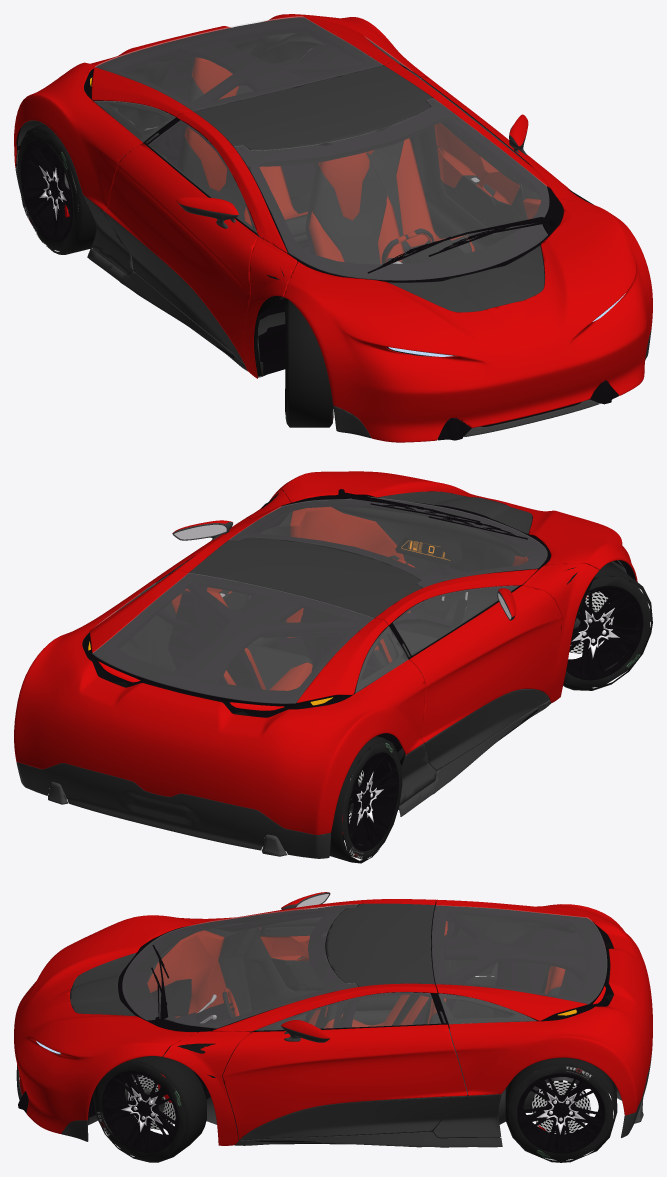
Rendered from aubade-lite.glb.
The picture shows the model from 3 angles, top to bottom: view 1: azimuth 30°, elevation 25°; view 2: azimuth 150°, elevation 25°; view 3: azimuth 270°, elevation 25°; orthographic projection. The views are drawn at different scales.
Parts seen in each view (by area): view 1: BodyHood, BodyWindshield, BodyRearwindow, BodyDoorRColor1, BodyRearPanelsColor1, BodyRoofPanel, BodyWindshieldGasket, InteriorSeatsColor1, InteriorSeatsColor2, BodyPillars, Tyre (×2), InteriorPillar (+20 smaller); view 2: BodyRearPanelsColor1, BodyRearwindow, BodyWindshield, BodyPanelsColor2, BodyDoorRColor1, BodyRoofPanel, BodyHood, InteriorRearHatch, BodyPillars, InteriorPillar, InteriorDashMid, BodyWindshieldGasket (+21 smaller); view 3: BodyRearPanelsColor1, BodyWindshield, BodyDoorLColor1, BodyHood, BodyRearwindow, Tyre (×2), BodyRoofPanel, BodyPillars, BodyWindshieldGasket, BodyDoorLColor2, BodyPanelsColor2, InteriorRearHatch (+24 smaller).
Part boxes in pixels (x1,y1,x2,y2): BodyHood: (283,198,652,442); BodyWindshield: (234,98,549,280); BodyRearwindow: (95,16,382,110); BodyDoorRColor1: (104,143,257,362); BodyRearPanelsColor1: (14,14,428,210); BodyRoofPanel: (193,65,432,150); BodyWindshieldGasket: (234,99,563,282); InteriorSeatsColor1: (185,57,475,264); InteriorSeatsColor2: (180,77,471,264); BodyPillars: (176,61,598,378); Tyre (×2): (17,124,333,427); InteriorPillar: (158,37,434,168); BodyRearPanelsColor1: (14,569,425,834); BodyRearwindow: (92,573,373,703); BodyWindshield: (229,497,547,587); BodyPanelsColor2: (16,700,551,858); BodyDoorRColor1: (409,585,562,742); BodyRoofPanel: (189,537,422,617); BodyHood: (278,471,637,581); InteriorRearHatch: (93,573,385,707); BodyPillars: (175,489,599,702); InteriorPillar: (174,574,417,682); InteriorDashMid: (331,506,525,622); BodyWindshieldGasket: (230,497,550,587); BodyRearPanelsColor1: (436,899,652,1115); BodyWindshield: (122,904,357,1028); BodyDoorLColor1: (222,1024,467,1139); BodyHood: (14,915,196,1133); BodyRearwindow: (432,905,606,1003); Tyre (×2): (93,1054,617,1162); BodyRoofPanel: (326,903,434,986); BodyPillars: (163,899,437,1145); BodyWindshieldGasket: (118,905,357,1032); BodyDoorLColor2: (240,1096,467,1140); BodyPanelsColor2: (16,1050,652,1147); InteriorRearHatch: (432,905,606,1020).
Bounding box in the file's own units: 2.54 × 1.15 × 4.36.
22 materials, 5 textured.
